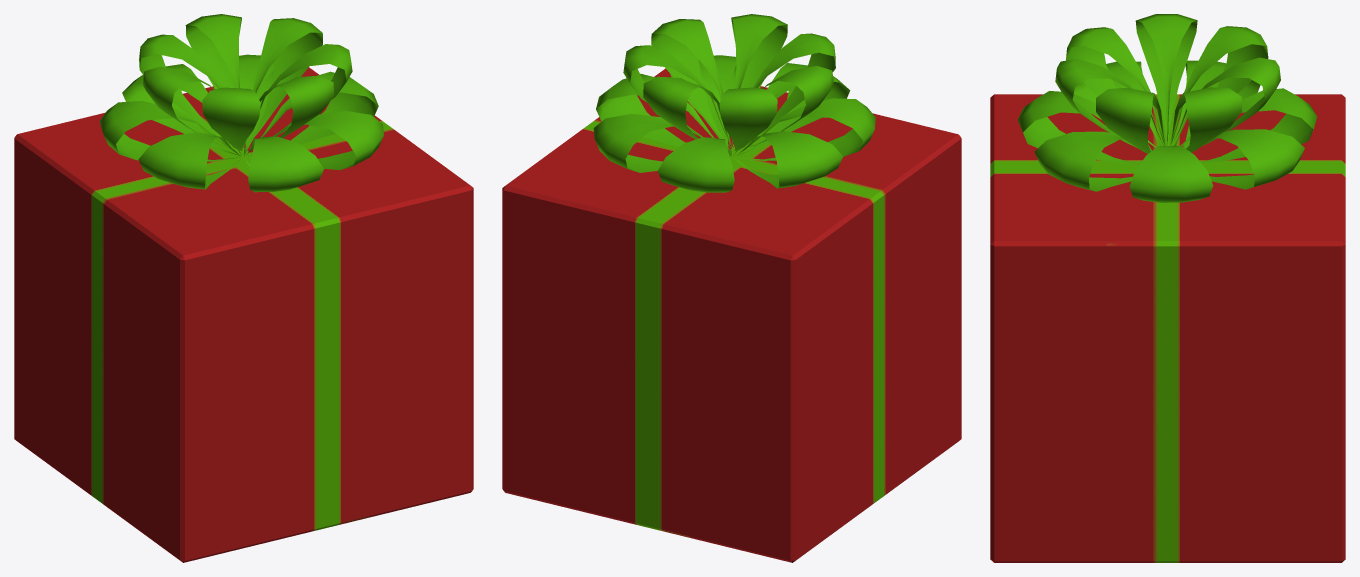
Rendered from gift.obj.
The picture shows the model from 3 angles, left to right: view 1: azimuth 30°, elevation 25°; view 2: azimuth 150°, elevation 25°; view 3: azimuth 270°, elevation 25°; orthographic projection. The views are drawn at different scales.
Parts seen in each view (by area): view 1: Cube; view 2: Cube; view 3: Cube.
Boxes of the visible parts, left/top/right/bottom form: Cube: left=14, top=14, right=473, bottom=562; Cube: left=502, top=14, right=961, bottom=562; Cube: left=990, top=14, right=1345, bottom=562.
Size of the model in its own units: 2 by 2.69 by 2.
Materials: 1 (1 with a texture image).
